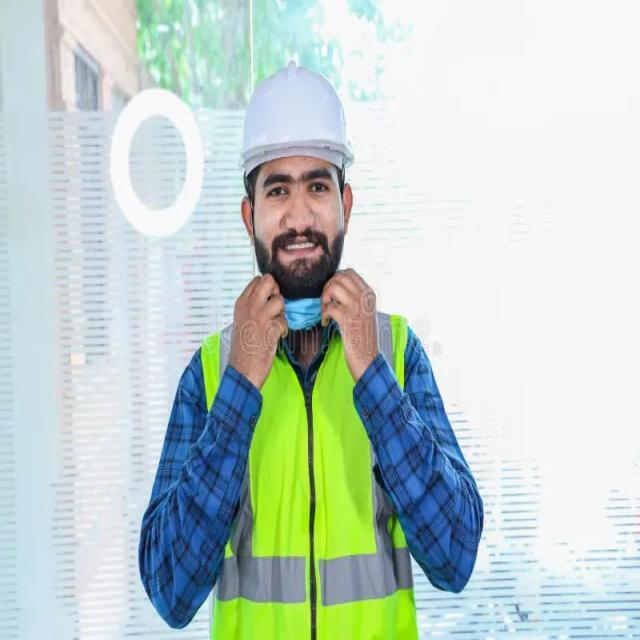helmet: (235, 75, 374, 161)
human: (168, 46, 487, 640)
vest: (194, 312, 426, 640)
